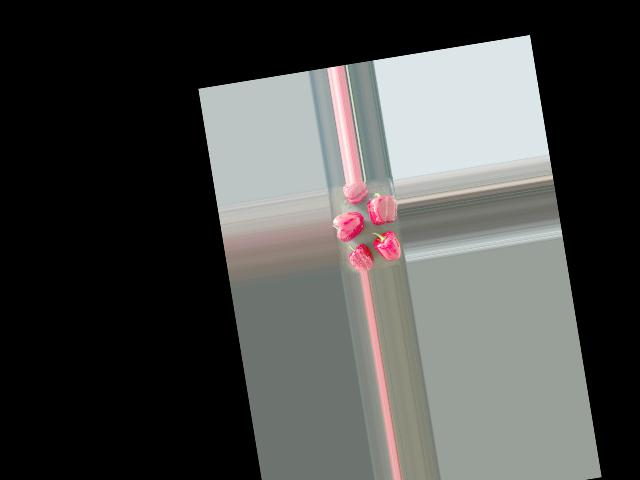bell_pepper: (337, 180, 371, 207)
